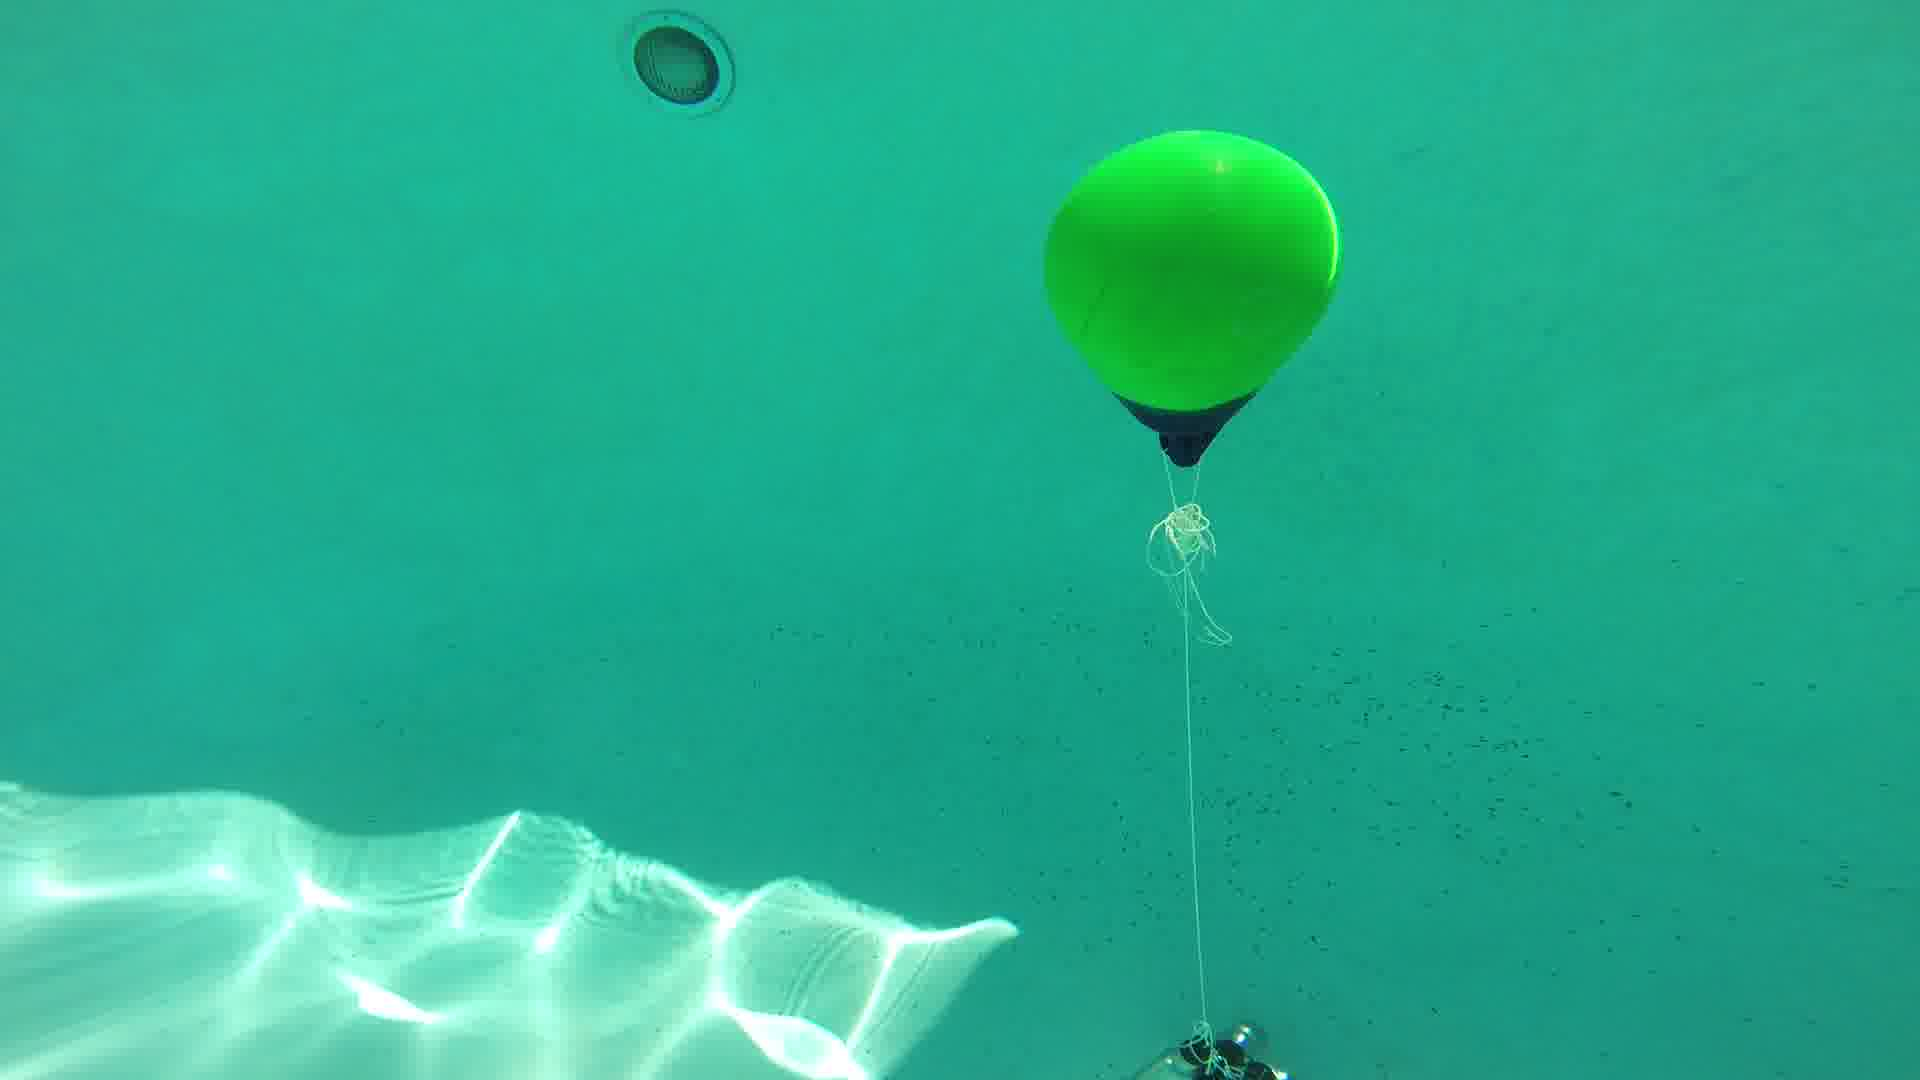yellow_buoy: (1043, 132, 1342, 469)
